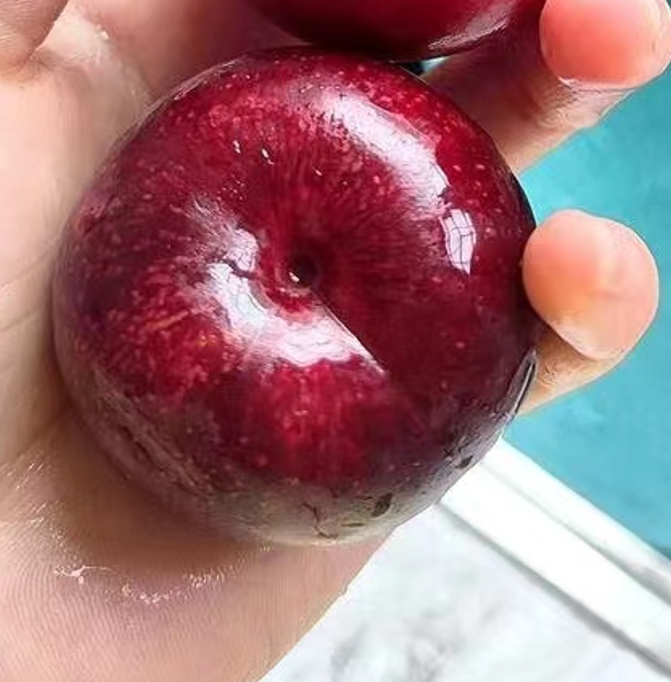plum_A: (51, 45, 545, 547)
